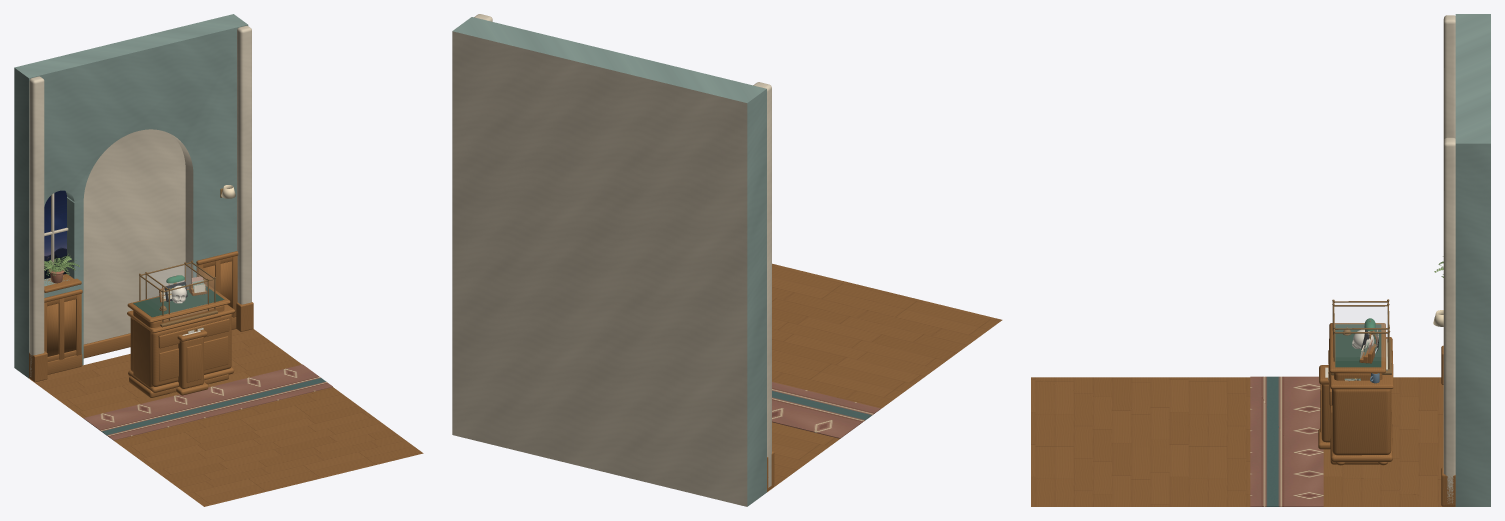
Rendered from museum.glb.
3 renders of one model, left to right at view 1: azimuth 30°, elevation 25°; view 2: azimuth 150°, elevation 25°; view 3: azimuth 270°, elevation 25°, orthographic. The views are drawn at different scales.
Parts seen in each view (by area): view 1: Wall, Floor, Pilaster, Rug, Wainscot, DeskOak, CabinetWide, Cabinet, PlinthOak, WindowGlass, DeskLeather, PilasterBase (+2 smaller); view 2: Wall, Floor, Rug, Pilaster; view 3: Floor, Wall, Rug, Pilaster, Cabinet, DeskLeather, DeskOak, PlinthOak, PilasterBase.
Part boxes in pixels (x1,y1,x2,y2): Wall: [14, 14, 248, 378]; Floor: [29, 329, 423, 506]; Pilaster: [29, 25, 251, 376]; Rug: [83, 364, 332, 440]; Wainscot: [44, 251, 238, 374]; DeskOak: [127, 284, 230, 397]; CabinetWide: [127, 310, 226, 392]; Cabinet: [165, 304, 235, 388]; PlinthOak: [176, 329, 208, 395]; WindowGlass: [44, 190, 66, 279]; DeskLeather: [133, 286, 224, 317]; PilasterBase: [29, 302, 253, 382]; Wall: [452, 17, 766, 506]; Floor: [767, 263, 1002, 492]; Rug: [772, 382, 880, 438]; Pilaster: [474, 14, 771, 487]; Floor: [1031, 377, 1455, 506]; Wall: [1455, 14, 1490, 506]; Rug: [1250, 376, 1323, 506]; Pilaster: [1443, 15, 1455, 503]; Cabinet: [1329, 345, 1393, 465]; DeskLeather: [1335, 324, 1381, 367]; DeskOak: [1329, 323, 1385, 464]; PlinthOak: [1318, 365, 1330, 449]; PilasterBase: [1441, 345, 1455, 506].
Size of the model in its own units: 2.6 by 3.43 by 3.9.
86 materials, 20 textured.
